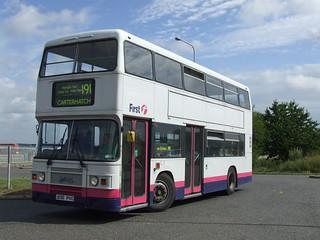bus: (32, 31, 260, 215)
